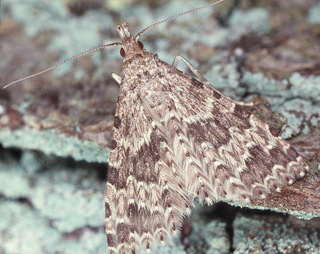Alucitidae: (1, 2, 320, 254)
moth: (1, 2, 320, 254)
